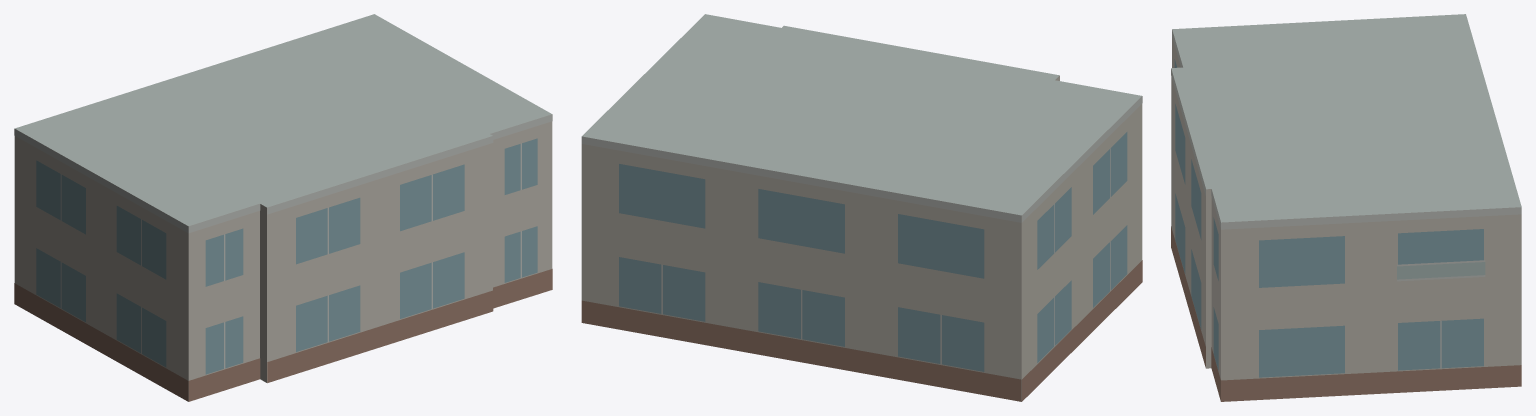
File: survey-upis-32810005.glb
3 renders of one model, left to right at view 1: azimuth 30°, elevation 25°; view 2: azimuth 150°, elevation 25°; view 3: azimuth 270°, elevation 25°, orthographic. The views are drawn at different scales.
Parts seen in each view (by area): view 1: survey-upis-32810005.tmp; view 2: survey-upis-32810005.tmp; view 3: survey-upis-32810005.tmp.
Boxes of the visible parts, bbox=[...] form: survey-upis-32810005.tmp: bbox=[14, 14, 552, 401]; survey-upis-32810005.tmp: bbox=[581, 14, 1142, 401]; survey-upis-32810005.tmp: bbox=[1171, 14, 1521, 401].
Size of the model in its own units: 15.22 by 6.1 by 10.82.
